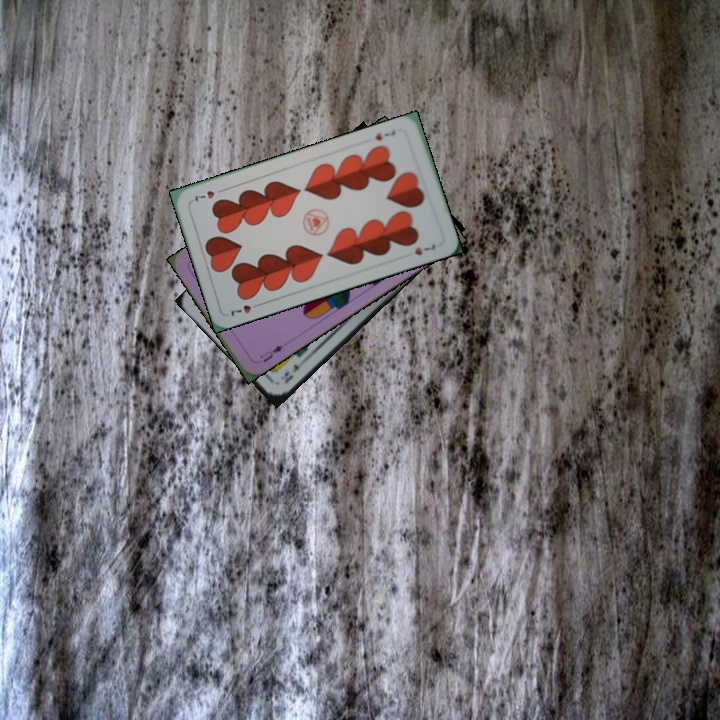EK: (280, 356, 308, 386)
EU: (256, 341, 285, 365)
H7: (225, 299, 264, 319), (371, 126, 398, 143)
